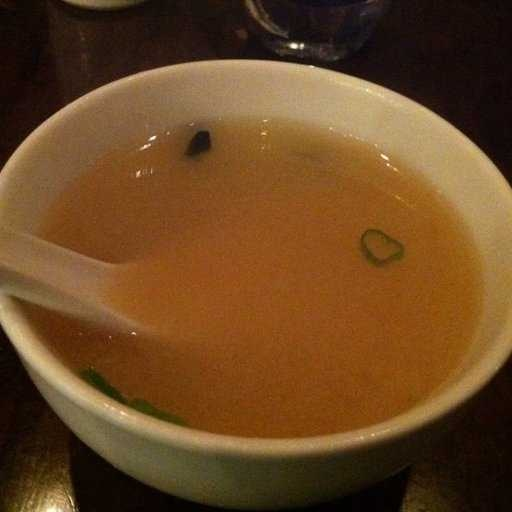soup: (21, 65, 493, 448)
